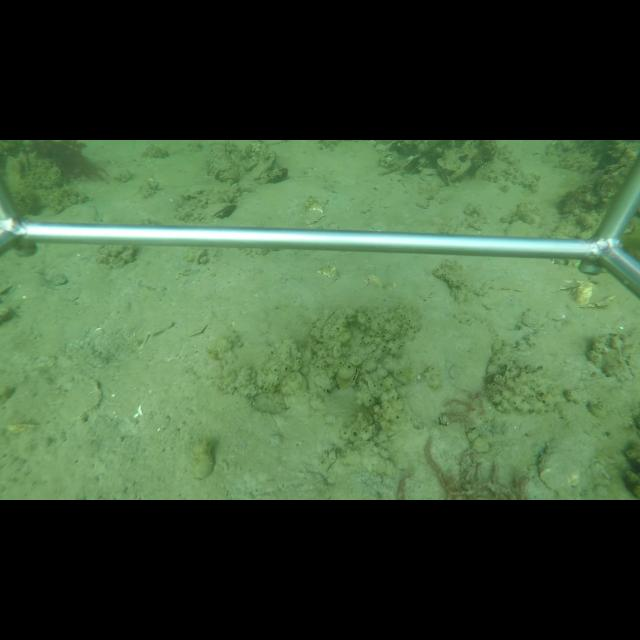Oyster-Closed: (536, 429, 599, 494), (238, 149, 277, 190), (193, 448, 214, 481), (435, 164, 453, 188), (348, 368, 361, 388)
Oyster-Open: (400, 153, 430, 175), (208, 202, 240, 219)
